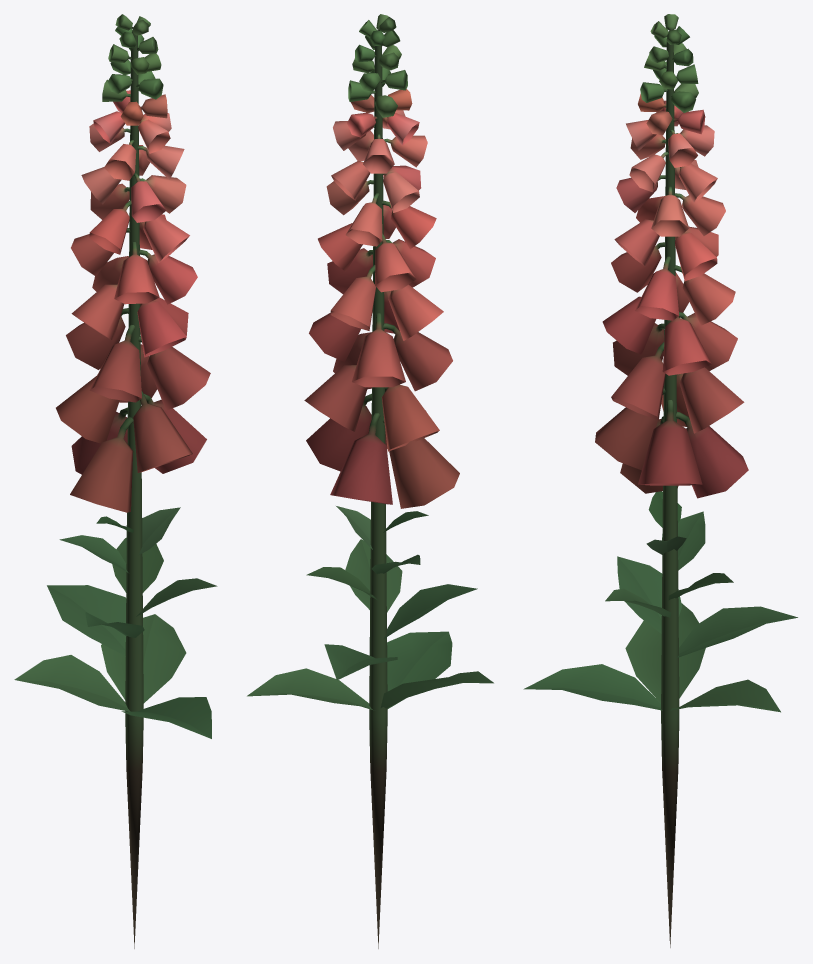
File: plants-flowers-foxglove_v4.glb
The picture shows the model from 3 angles, left to right: view 1: azimuth 30°, elevation 25°; view 2: azimuth 150°, elevation 25°; view 3: azimuth 270°, elevation 25°; orthographic projection.
Parts seen in each view (by area): view 1: Foxglove_v4; view 2: Foxglove_v4; view 3: Foxglove_v4.
Boxes of the visible parts, <box> form: Foxglove_v4: <box>14,14,217,948</box>; Foxglove_v4: <box>247,14,493,948</box>; Foxglove_v4: <box>523,14,797,947</box>.
Size of the model in its own units: 0.2614 by 1.2 by 0.3221.
